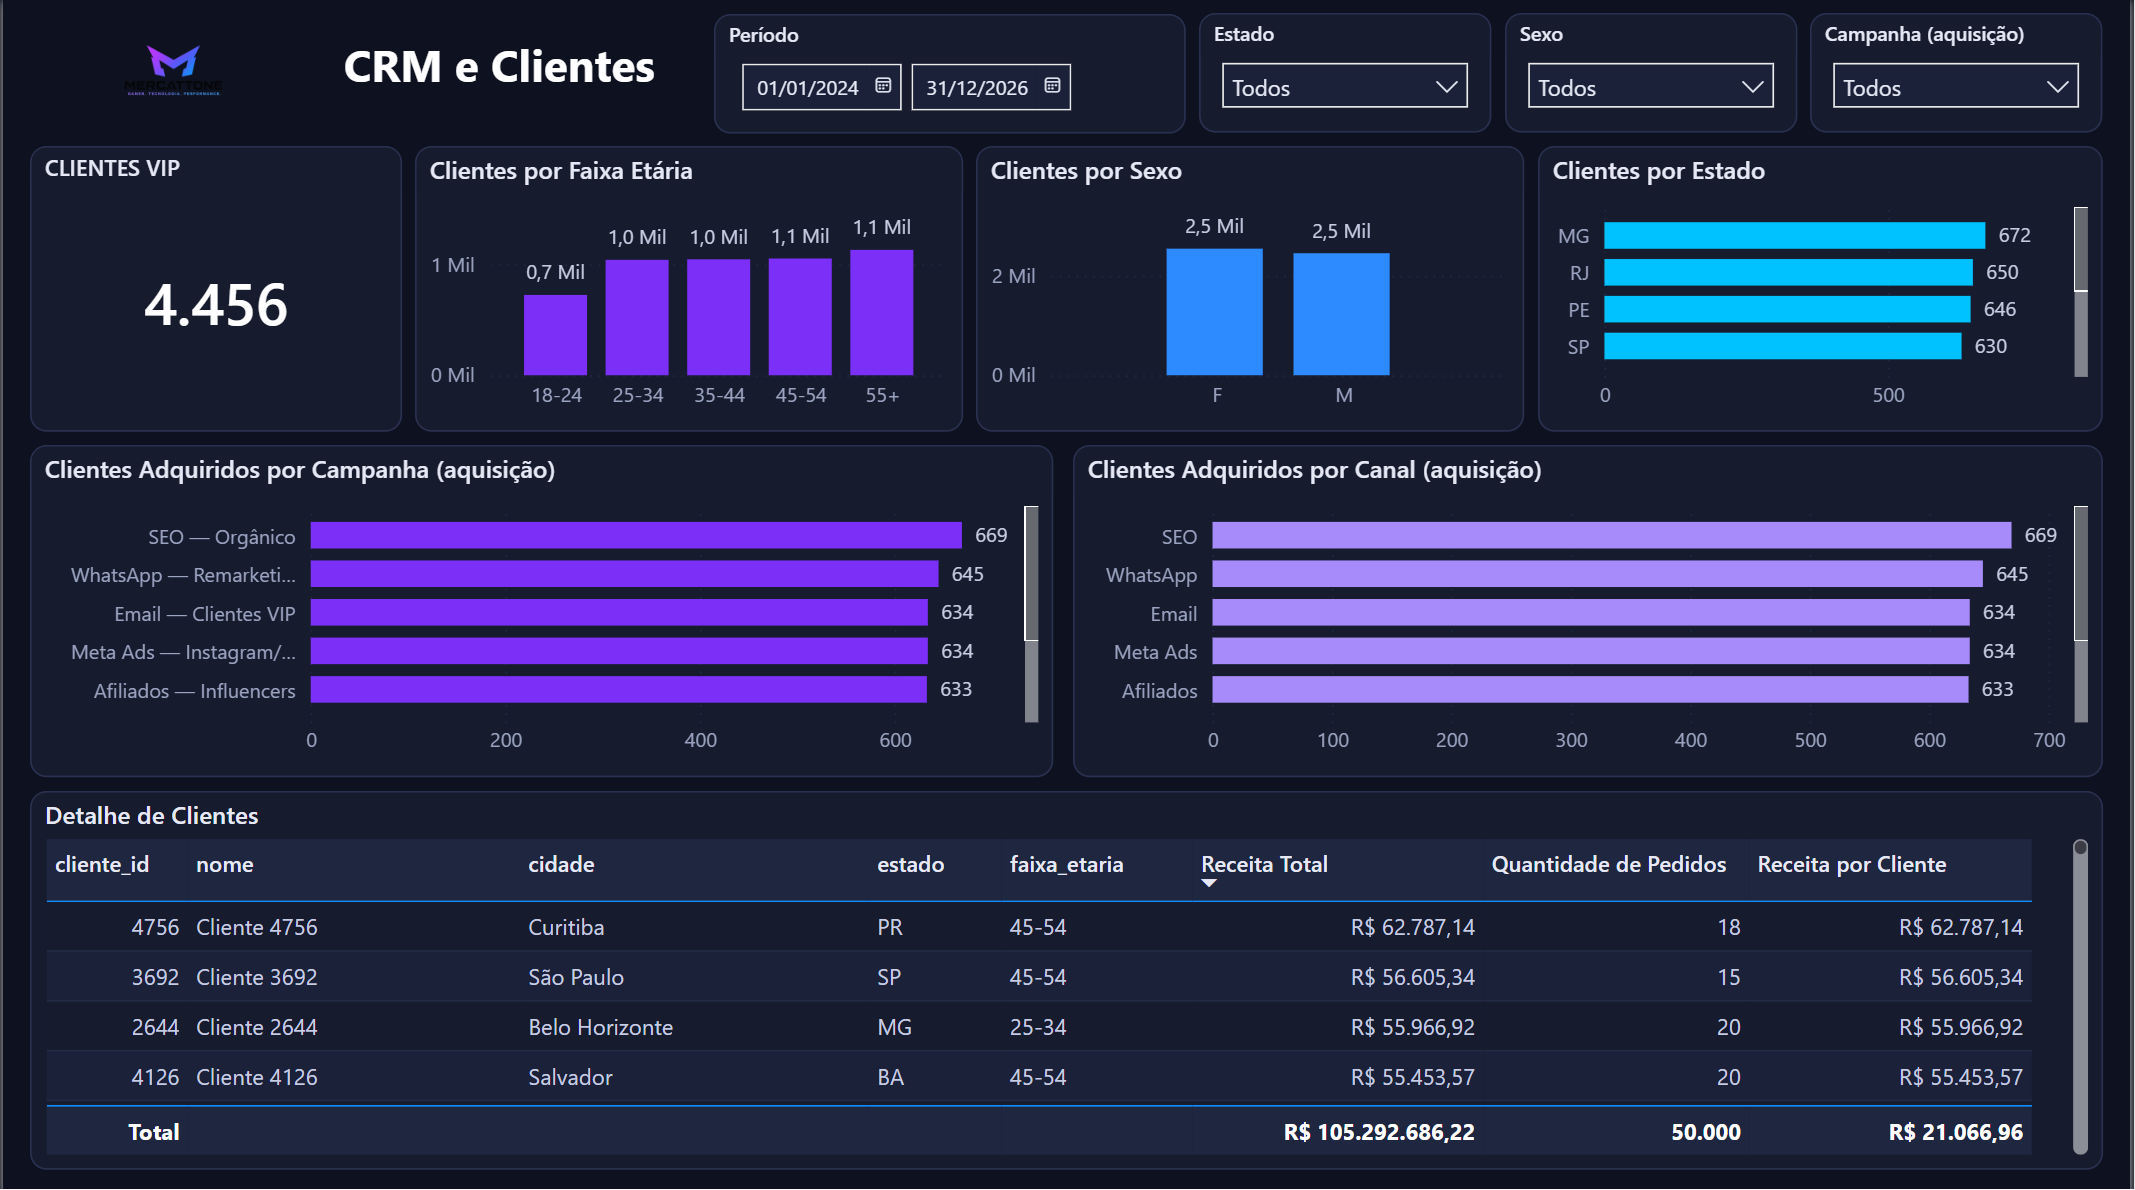

The page's visual inventory and layout, read from the dashboard file:
{"tool":"powerbi","page":{"name":"CRM e Clientes","canvas":[1280,720],"ordinal":1},"visuals":[{"type":"textbox","box":[189.1,15.9,223.9,56],"z":0},{"type":"slicer","title":"Período","fields":{"Values":["dCalendario.Date"]},"box":[427.8,8.2,284,71.9],"z":1000},{"type":"slicer","title":"Estado","fields":{"Values":["public clientes.estado"]},"box":[720,8,176,72],"z":2000},{"type":"slicer","title":"Sexo","fields":{"Values":["public clientes.sexo"]},"box":[904,8,176,72],"z":3000},{"type":"slicer","title":"Campanha (aquisição)","fields":{"Values":["Campanha Aquisição.campanha"]},"box":[1088,8,176,72],"z":4000},{"type":"card","title":"CLIENTES VIP","fields":{"Values":["_Medidas.Clientes VIP"]},"box":[16,88,224,172],"z":5000},{"type":"clusteredColumnChart","title":"Clientes por Faixa Etária","fields":{"Category":["public clientes.faixa_etaria"],"Y":["_Medidas.Clientes Cadastrados"]},"box":[248,88,330,172],"z":6000},{"type":"clusteredColumnChart","title":"Clientes por Sexo","fields":{"Category":["public clientes.sexo"],"Y":["_Medidas.Clientes Cadastrados"]},"box":[586,88,330,172],"z":7000},{"type":"clusteredBarChart","title":"Clientes por Estado","fields":{"Category":["public clientes.estado"],"Y":["_Medidas.Clientes Cadastrados"]},"box":[924,88,340,172],"z":8000},{"type":"clusteredBarChart","title":"Clientes Adquiridos por Campanha (aquisição)","fields":{"Category":["Campanha Aquisição.campanha"],"Y":["_Medidas.Clientes Adquiridos"]},"box":[16,268,616,200],"z":9000},{"type":"clusteredBarChart","title":"Clientes Adquiridos por Canal (aquisição)","fields":{"Category":["Campanha Aquisição.canal"],"Y":["_Medidas.Clientes Adquiridos"]},"box":[644,268,620,200],"z":10000},{"type":"tableEx","title":"Detalhe de Clientes","fields":{"Values":["public clientes.cliente_id","public clientes.nome","public clientes.cidade","public clientes.estado","public clientes.faixa_etaria","_Medidas.Receita Total","_Medidas.Quantidade de Pedidos","_Medidas.Receita por Cliente"]},"box":[16,476,1248,228],"z":11000},{"type":"image","box":[17.1,11.8,172,68.3],"z":12000}]}

Visuals, with their boxes in screenshot pixels (x1, y1, x2, y2), scaled from the page's 1280x720 canvas onto the 2135x1190 screenshot:
textbox: rect(315, 26, 689, 119)
"Período" slicer: rect(714, 14, 1187, 132)
"Estado" slicer: rect(1201, 13, 1494, 132)
"Sexo" slicer: rect(1508, 13, 1801, 132)
"Campanha (aquisição)" slicer: rect(1815, 13, 2108, 132)
"CLIENTES VIP" card: rect(27, 145, 400, 430)
"Clientes por Faixa Etária" clusteredColumnChart: rect(414, 145, 964, 430)
"Clientes por Sexo" clusteredColumnChart: rect(977, 145, 1528, 430)
"Clientes por Estado" clusteredBarChart: rect(1541, 145, 2108, 430)
"Clientes Adquiridos por Campanha (aquisição)" clusteredBarChart: rect(27, 443, 1054, 774)
"Clientes Adquiridos por Canal (aquisição)" clusteredBarChart: rect(1074, 443, 2108, 774)
"Detalhe de Clientes" tableEx: rect(27, 787, 2108, 1164)
image: rect(29, 20, 315, 132)
